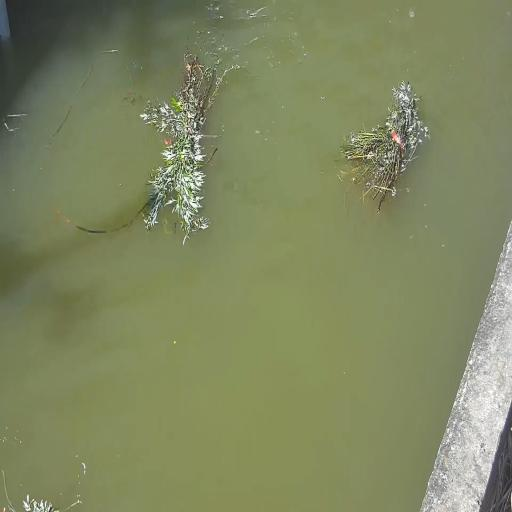twig: (140, 38, 229, 245), (340, 80, 427, 218)
